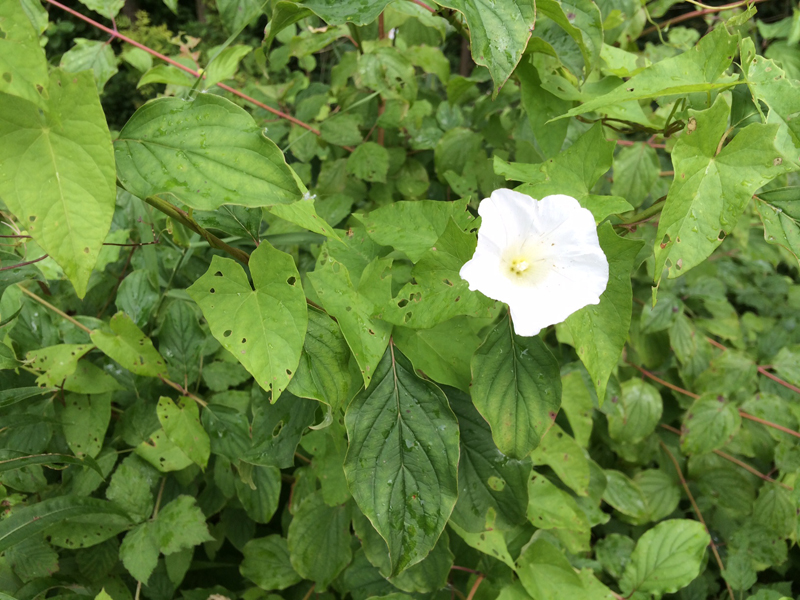haagwinde: (648, 90, 798, 310), (449, 179, 626, 344), (1, 63, 117, 302), (187, 233, 333, 418), (308, 245, 424, 398)
